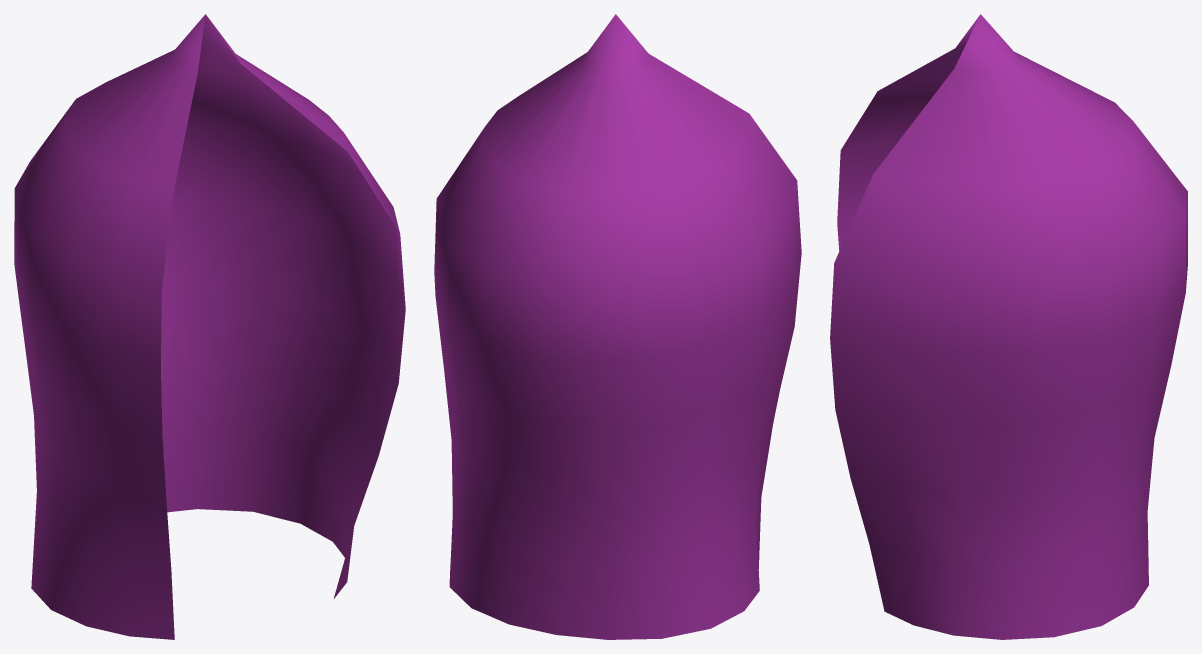
The model's file is nebula_armor_head.glb.
3 views of the same model, side by side, from view 1: azimuth 30°, elevation 25°; view 2: azimuth 150°, elevation 25°; view 3: azimuth 270°, elevation 25° (orthographic). The views are drawn at different scales.
Parts seen in each view (by area): view 1: nebula_armor_head; view 2: nebula_armor_head; view 3: nebula_armor_head.
Part boxes in pixels (x1=…): nebula_armor_head: x1=14, y1=14, x2=405, y2=639; nebula_armor_head: x1=434, y1=14, x2=801, y2=639; nebula_armor_head: x1=830, y1=14, x2=1187, y2=639.
Size of the model in its own units: 0.2135 by 0.3668 by 0.2125.
